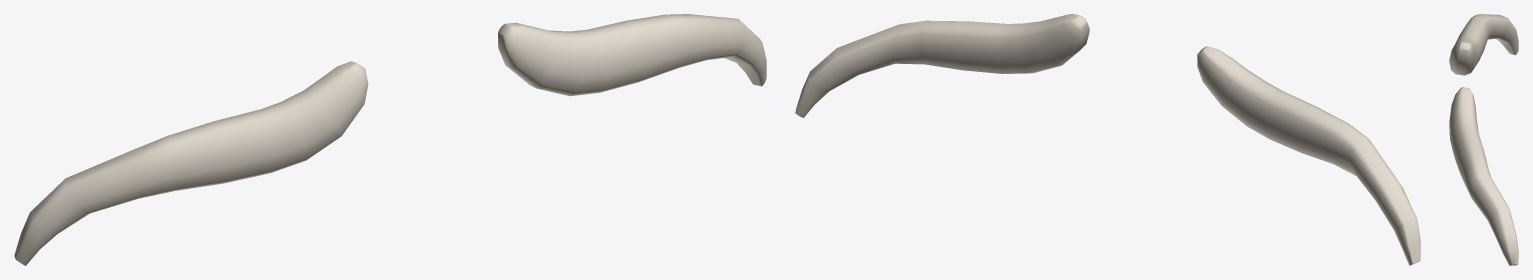
File: Eyebrows_22_07.fbx
3 renders of one model, left to right at view 1: azimuth 30°, elevation 25°; view 2: azimuth 150°, elevation 25°; view 3: azimuth 270°, elevation 25°, orthographic. The views are drawn at different scales.
Parts seen in each view (by area): view 1: Eyebrows_22_07; view 2: Eyebrows_22_07; view 3: Eyebrows_22_07.
Boxes of the visible parts, left/top/right/bottom form: Eyebrows_22_07: left=14, top=14, right=766, bottom=265; Eyebrows_22_07: left=795, top=14, right=1420, bottom=265; Eyebrows_22_07: left=1449, top=14, right=1518, bottom=265.
Bounding box in the file's own units: 18.69 × 3.84 × 2.54.
